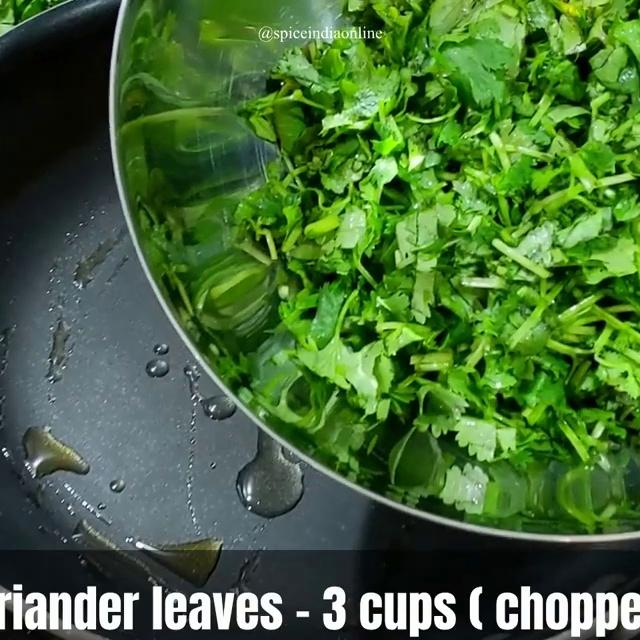cilantro: (327, 0, 640, 415)
